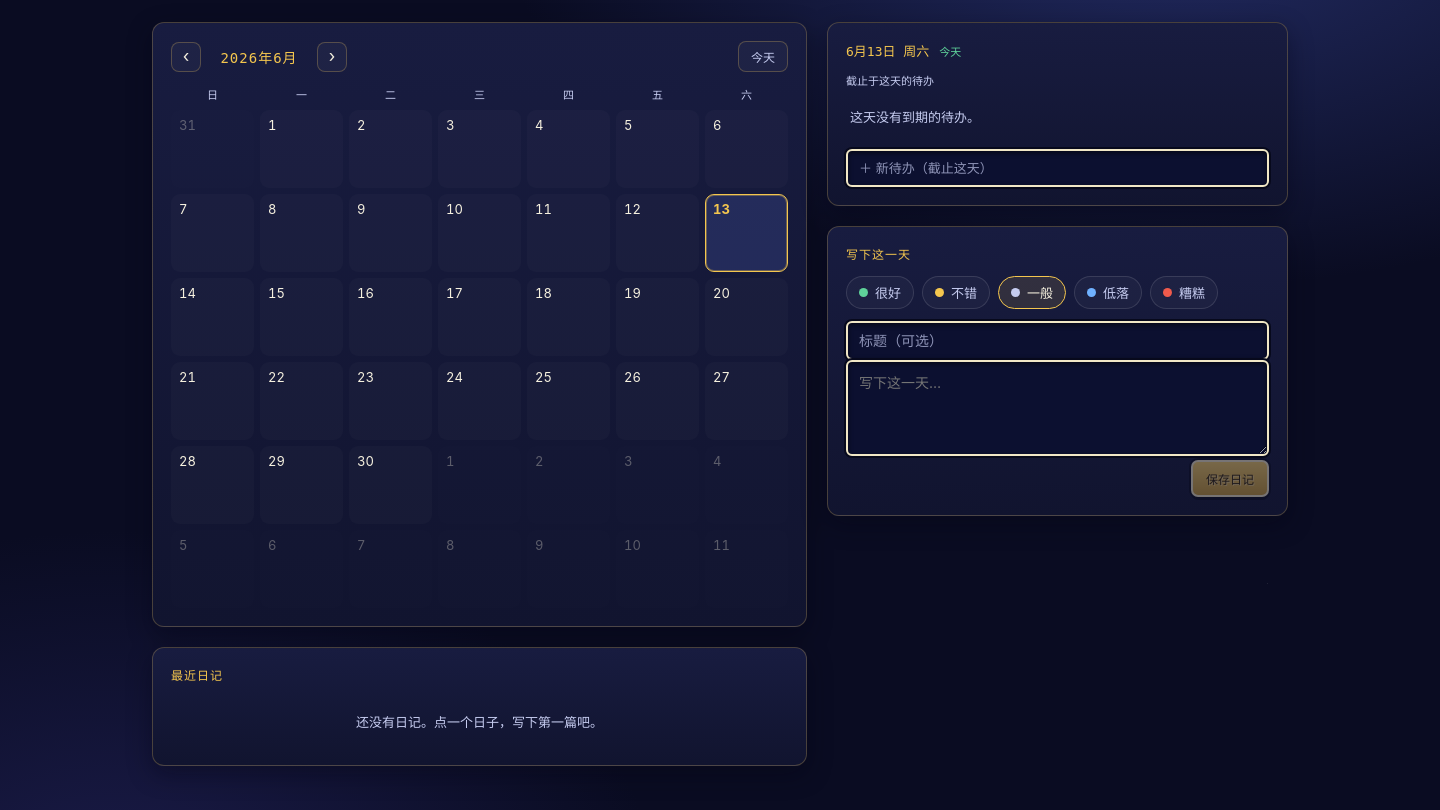
Test: productivity view › quick-adds a todo onto the selected day
Type "冲洗照片" into the field with placeholder "＋ 新待办（截止这天）" at (1058, 168), box [846,149,1269,187]
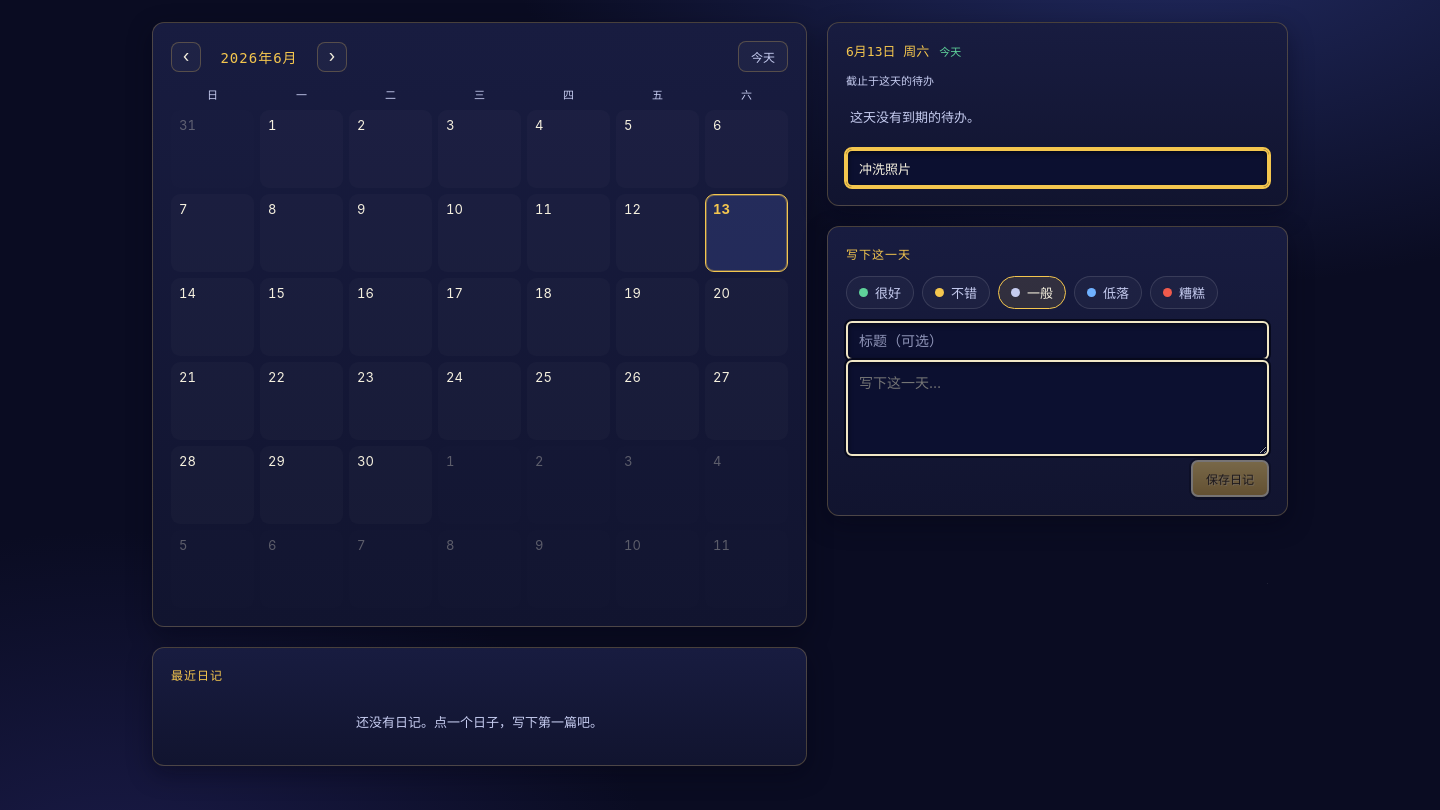
Press Enter
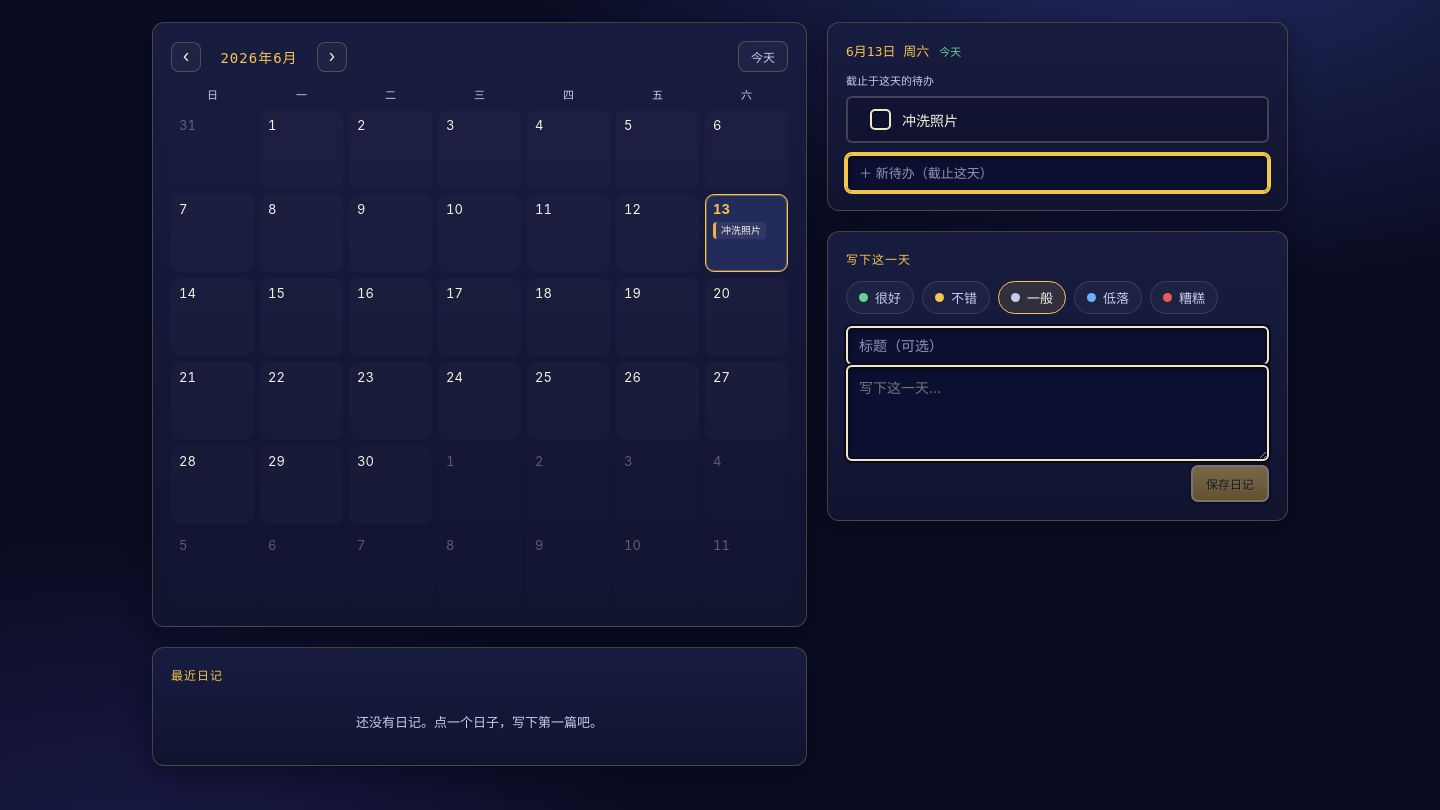
Check: the text "冲洗照片" below "截止于这天的待办" is shown, box [902,112,958,128]
